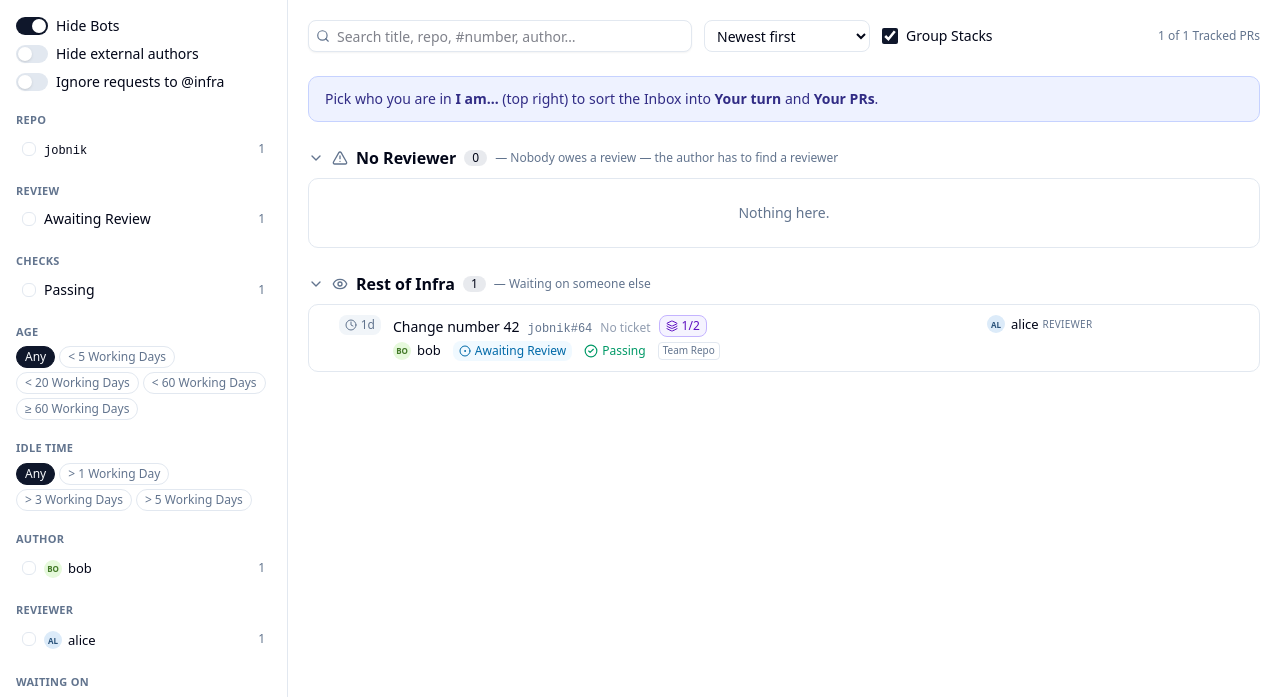
Test: the Inbox’s order › marks a PR in the Stack that the Team does not track
Click the button named "Stack position": [683, 326] box [658,315,707,337]
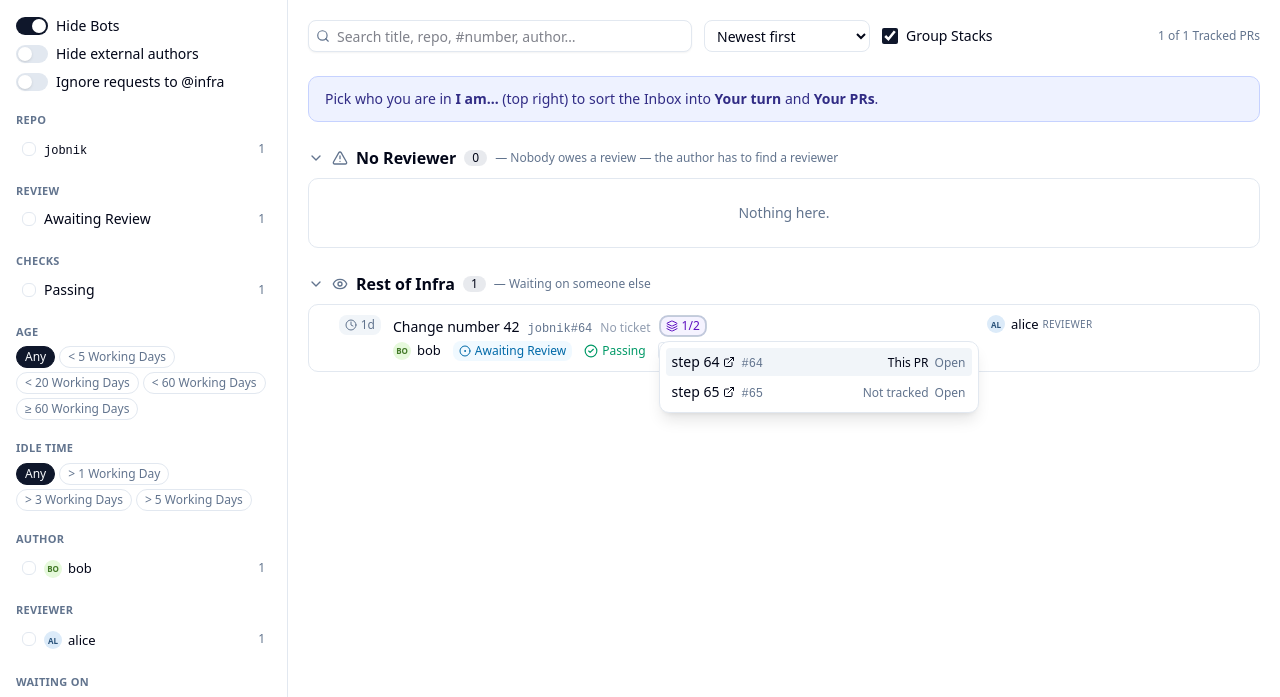
Expected: the list item "step 64 #64 This PR Open" does not show "Not tracked", [666,348,972,376]
Now the list item "step 65 #65 Not tracked Open" is shown, box [666,378,972,406]
